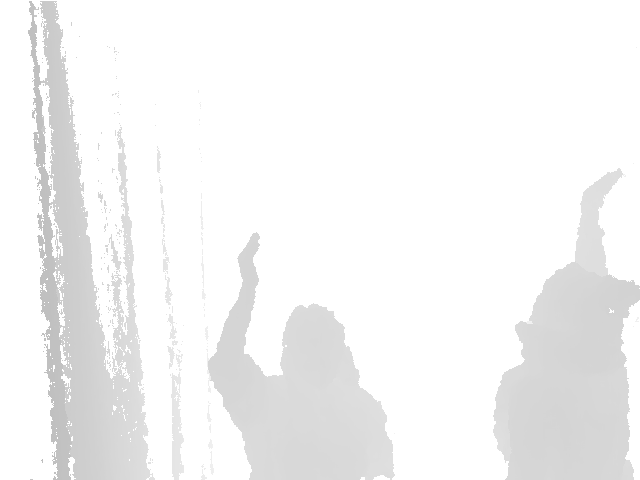hand: (579, 168, 624, 209), (237, 232, 261, 287)
head: (528, 264, 640, 352), (282, 305, 345, 377)
person: (205, 232, 397, 480), (492, 168, 640, 480)
